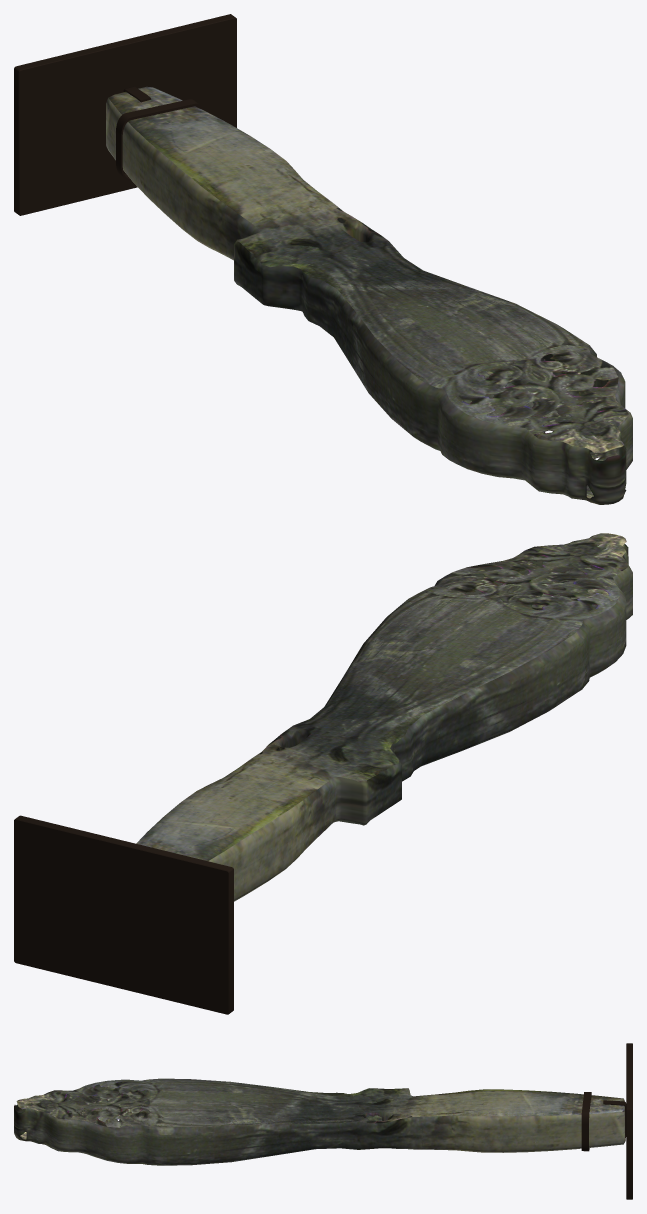
The model's file is unknown_wooden_sculpture_1_obj.obj.
3 renders of one model, top to bottom at view 1: azimuth 30°, elevation 25°; view 2: azimuth 150°, elevation 25°; view 3: azimuth 270°, elevation 25°, orthographic. The views are drawn at different scales.
Parts seen in each view (by area): view 1: unknown_wooden_sculpture_1; view 2: unknown_wooden_sculpture_1; view 3: unknown_wooden_sculpture_1.
Part boxes in pixels (bbox=[...]): unknown_wooden_sculpture_1: bbox=[14, 14, 632, 504]; unknown_wooden_sculpture_1: bbox=[14, 533, 632, 1014]; unknown_wooden_sculpture_1: bbox=[14, 1043, 632, 1199].
Bounding box in the file's own units: 44.38 × 28.38 × 175.
Materials: 2 (1 with a texture image).
